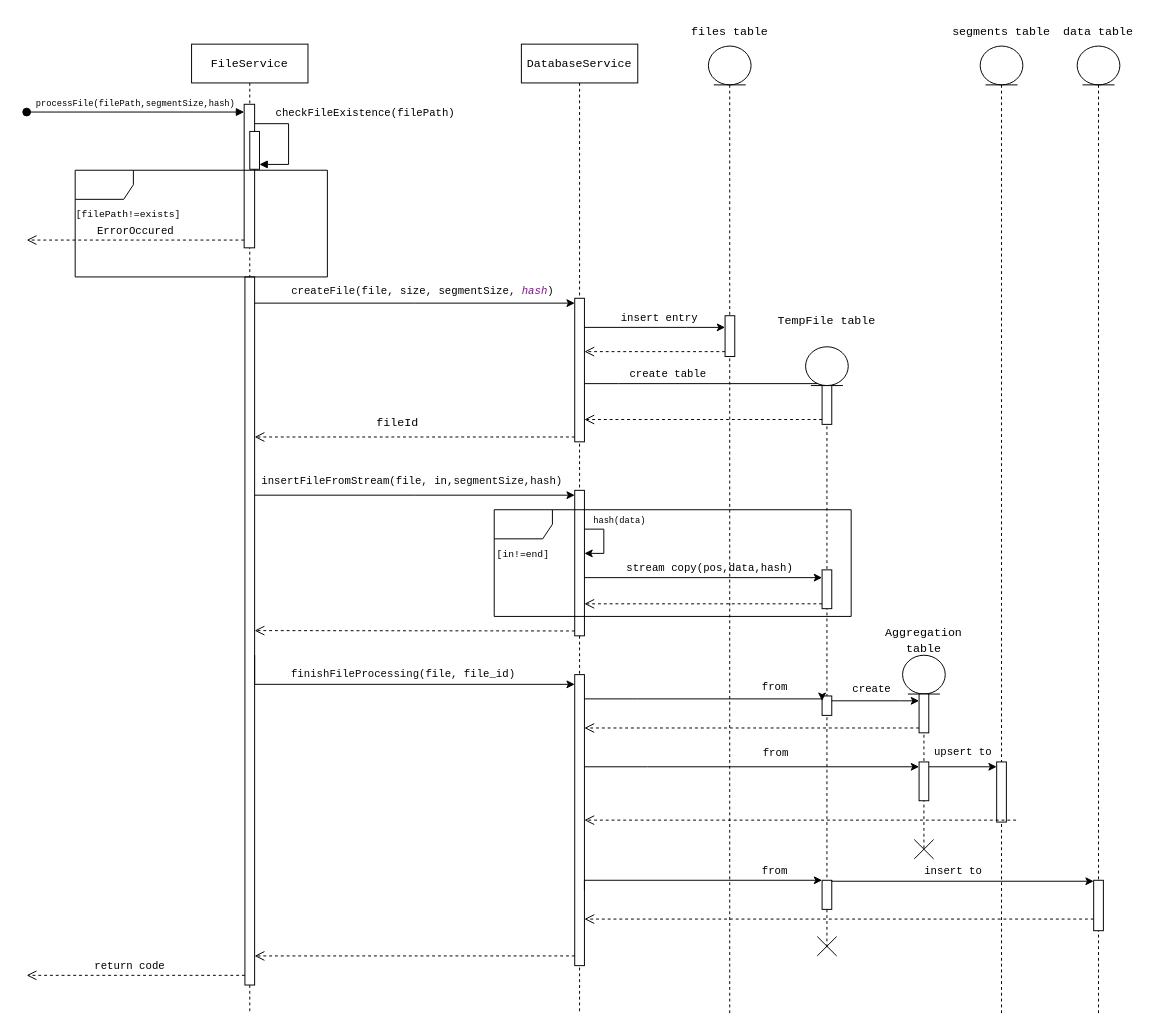
This 1169x1033 diagram has some shape labels left out. Here are the shapes that lost their labels. From the top down, the centre of each, then its label:
the point at 200,223: opt
the point at 672,562: loop
